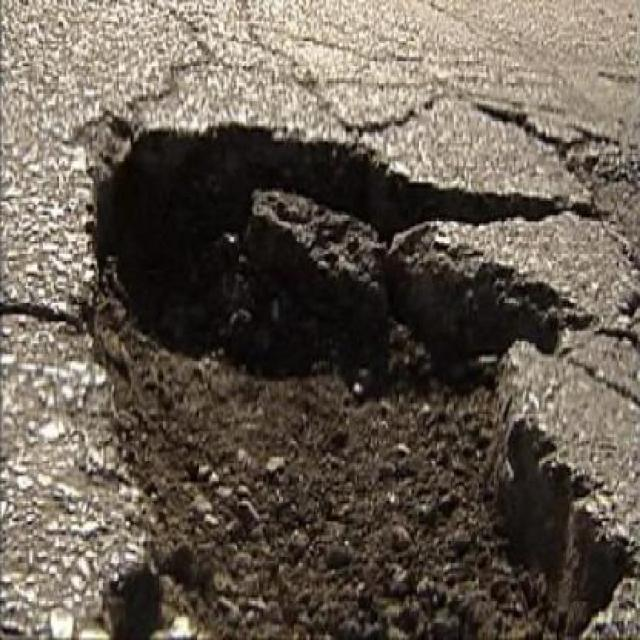pothole: (75, 104, 640, 638)
